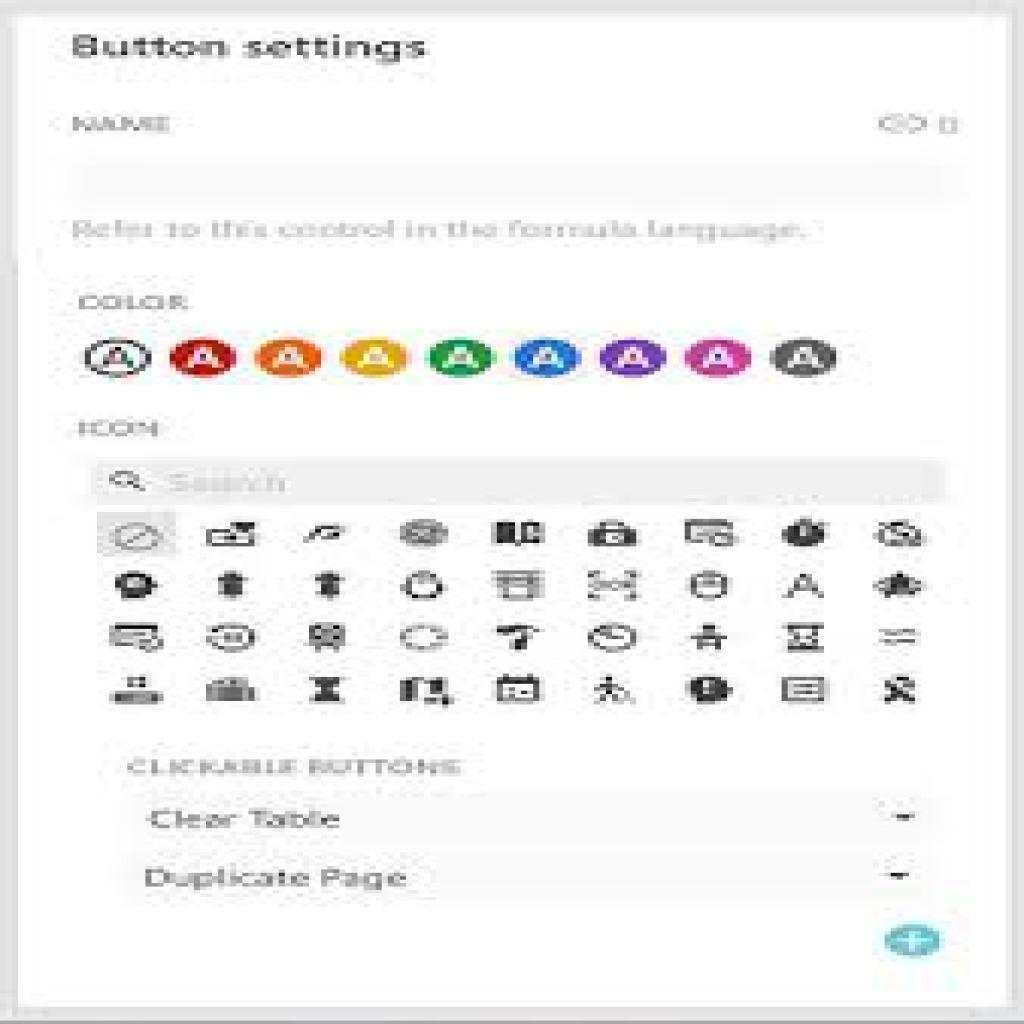dropdown: (135, 850, 936, 898), (135, 798, 934, 841)
icon: (107, 613, 167, 656), (586, 563, 642, 605), (487, 565, 547, 603), (203, 514, 258, 554), (678, 514, 739, 550), (106, 674, 165, 711), (487, 516, 550, 550), (205, 670, 264, 706), (872, 515, 928, 552), (202, 617, 255, 656), (396, 515, 453, 551), (588, 673, 642, 711), (397, 674, 457, 708), (774, 670, 831, 705), (685, 667, 736, 706), (778, 618, 830, 656), (778, 514, 831, 551), (586, 516, 642, 550), (493, 670, 544, 706), (397, 619, 449, 654), (493, 618, 540, 656), (301, 516, 353, 550), (586, 619, 638, 653), (307, 669, 350, 708), (301, 616, 345, 654), (872, 570, 925, 600), (687, 570, 730, 606), (779, 568, 824, 602), (107, 464, 149, 500), (398, 570, 447, 600), (214, 567, 253, 604), (686, 621, 730, 653), (874, 619, 919, 650), (877, 668, 914, 705), (116, 570, 160, 600), (313, 566, 346, 601)
input: (92, 460, 949, 508)
